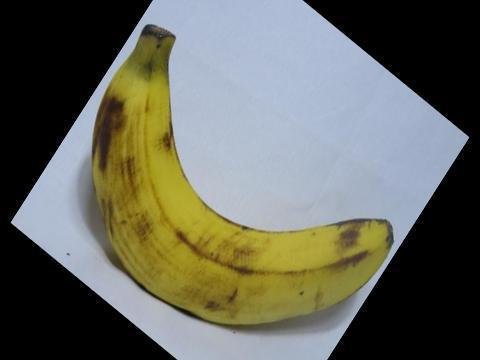ripe: (70, 11, 410, 343)
